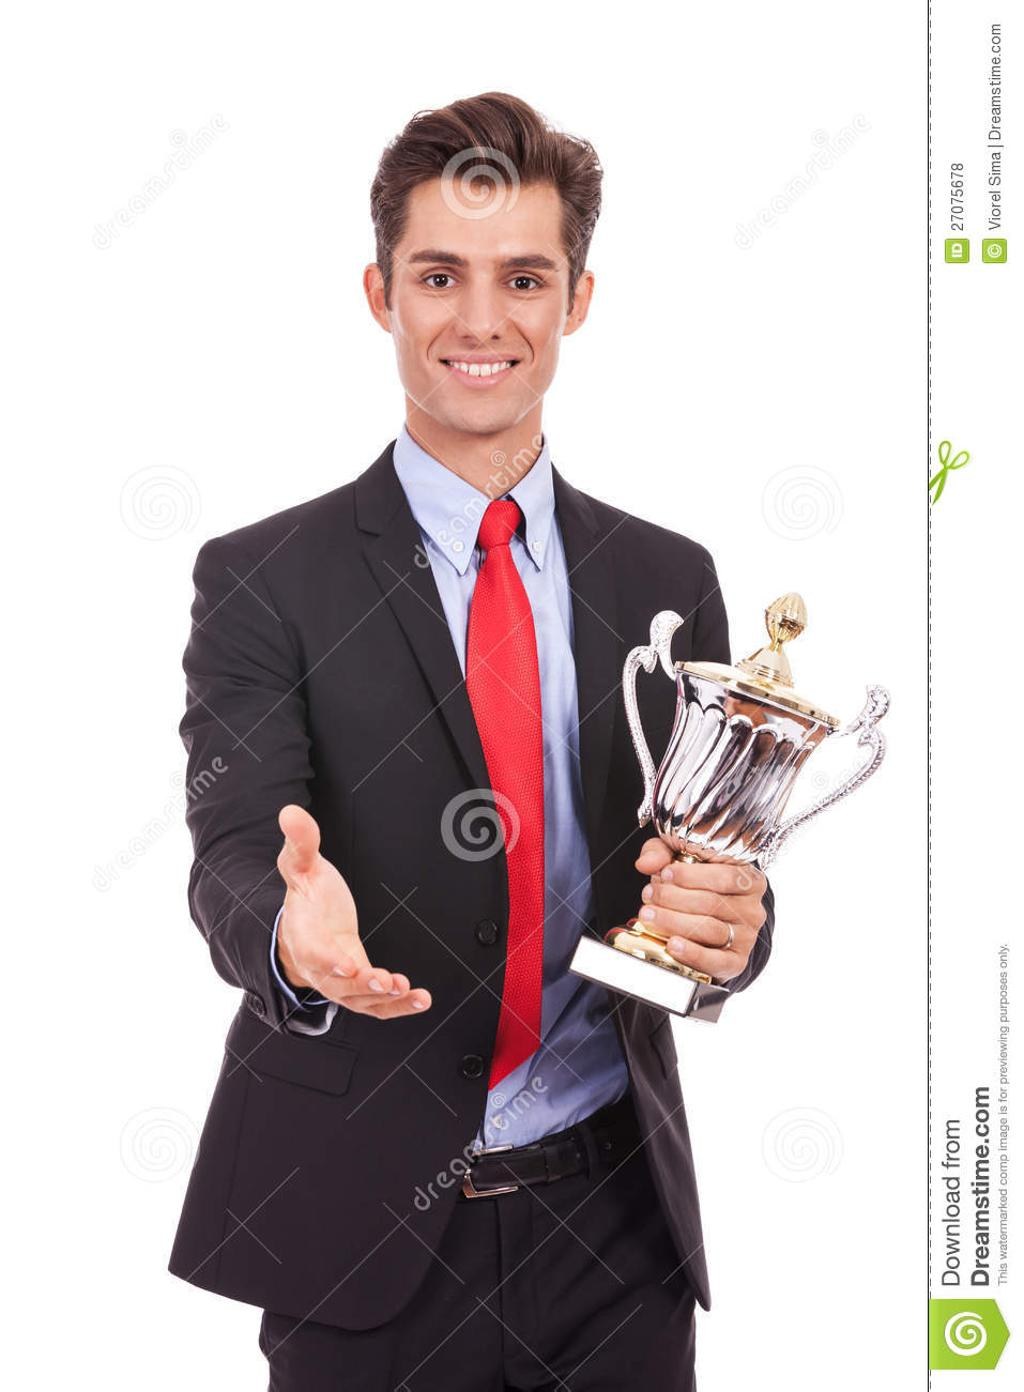face: (391, 177, 565, 435)
